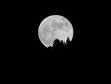moon: (37, 13, 73, 48)
